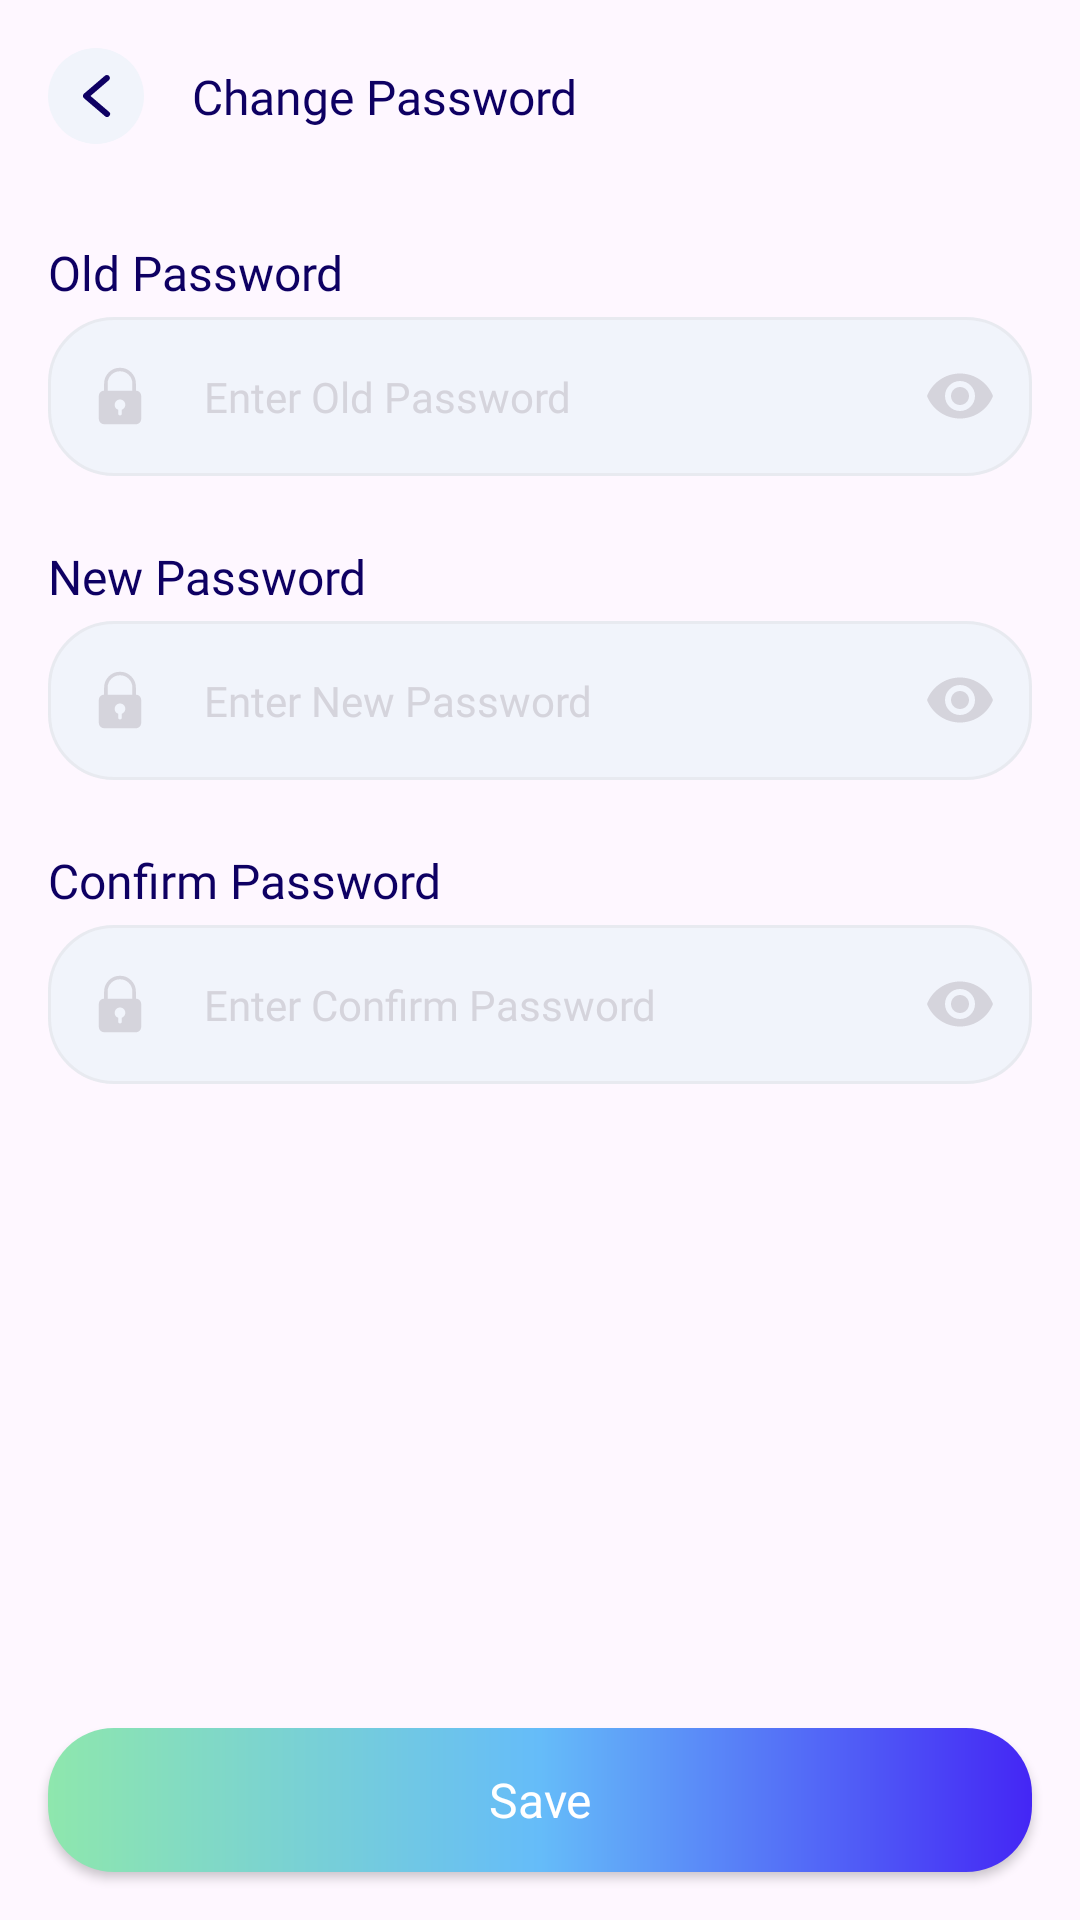

Screen size 1080x1920. Icon name, then its box in pixels as {"x1": x1, "y1": y1, "x2": x2, "y2": y2}:
Back Arrow: {"x1": 48, "y1": 48, "x2": 144, "y2": 144}
